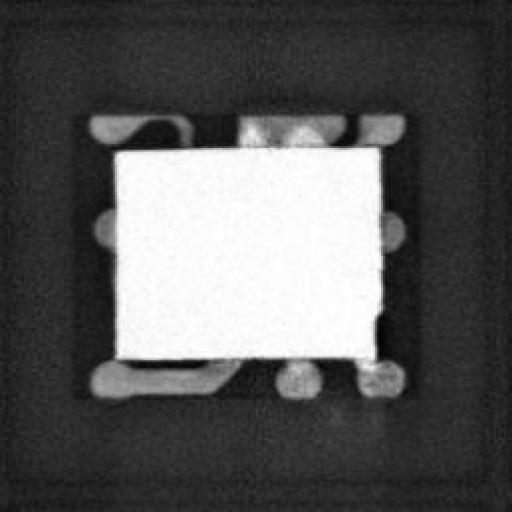DIE_BROKEN: (367, 306, 385, 360)
